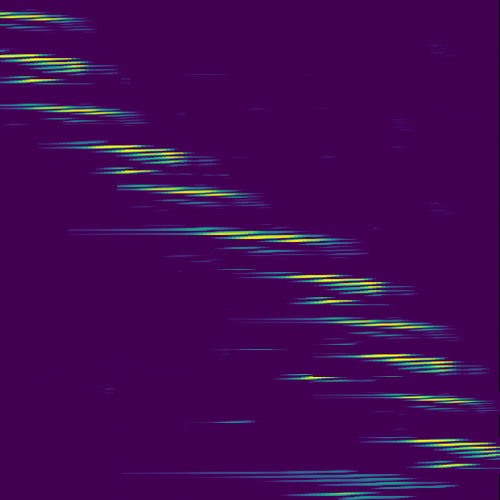semblance: (278, 269, 389, 307), (76, 141, 191, 176), (1, 48, 98, 85), (399, 435, 500, 470), (200, 225, 335, 247), (353, 351, 466, 375), (138, 182, 247, 201), (391, 391, 488, 412), (331, 316, 435, 332), (1, 7, 86, 26), (16, 102, 126, 116)
